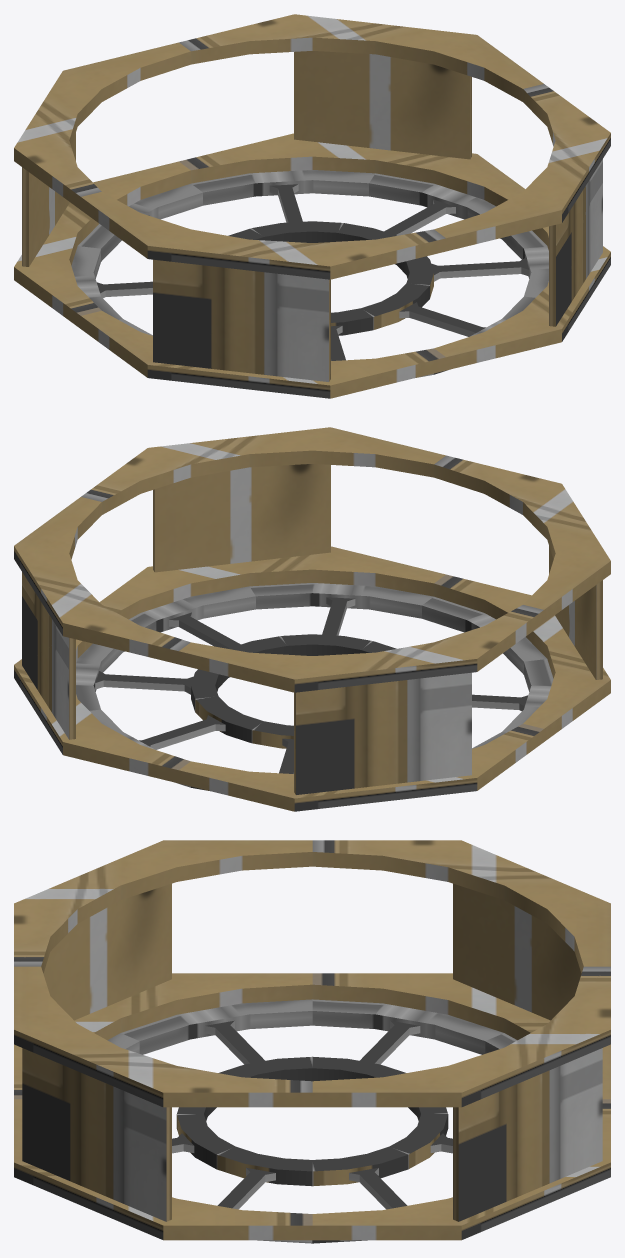
The model's file is libra_structure_s1_1.obj.
3 renders of one model, top to bottom at view 1: azimuth 30°, elevation 25°; view 2: azimuth 150°, elevation 25°; view 3: azimuth 270°, elevation 25°, orthographic. The views are drawn at different scales.
Parts seen in each view (by area): view 1: libra_structure_s1_1; view 2: libra_structure_s1_1; view 3: libra_structure_s1_1.
Part boxes in pixels (bbox=[...]): libra_structure_s1_1: bbox=[14, 14, 610, 398]; libra_structure_s1_1: bbox=[14, 427, 610, 811]; libra_structure_s1_1: bbox=[14, 840, 610, 1243].
Size of the model in its own units: 1.38 by 0.4125 by 1.38.
